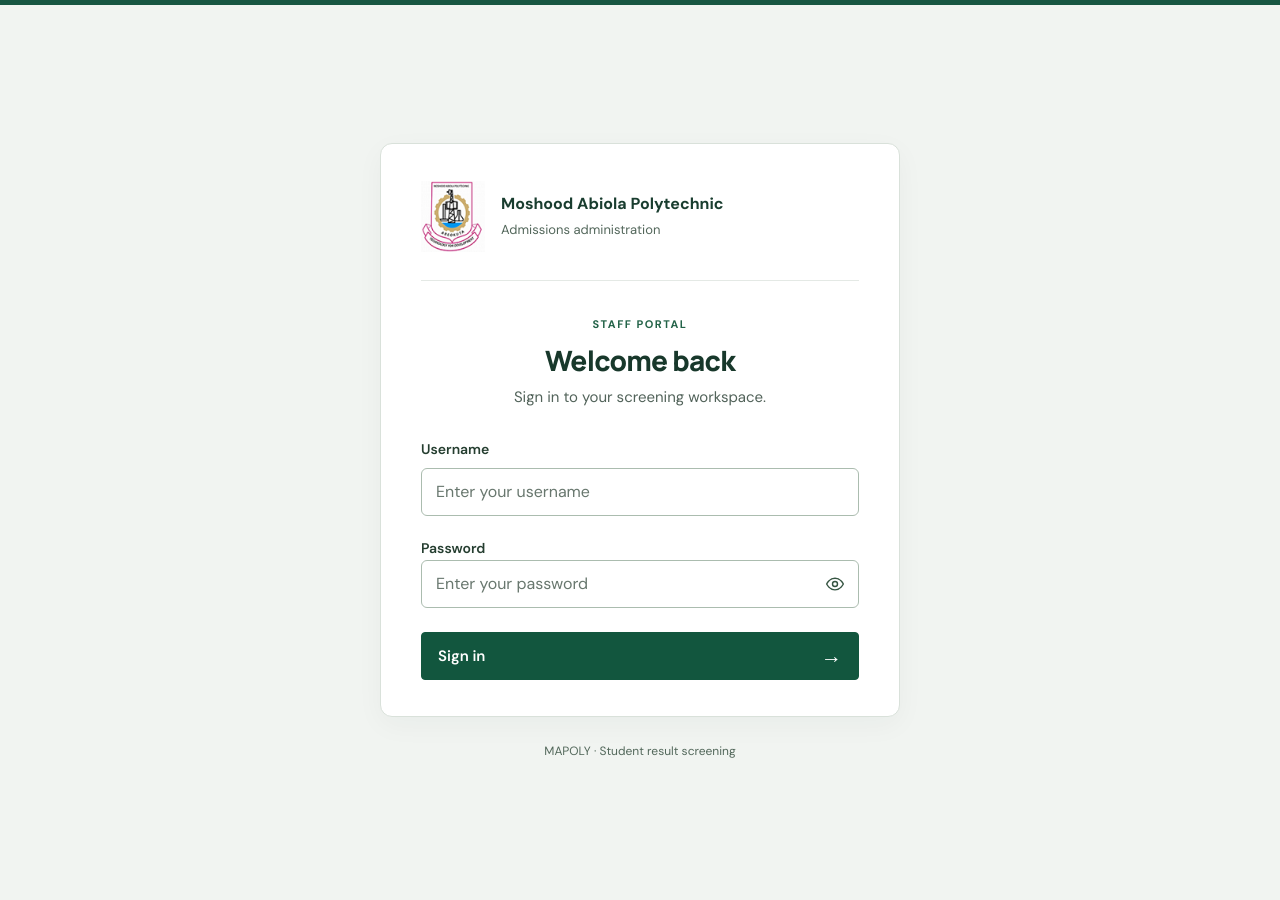
Test: shows and hides the password without submitting or changing it
Type "example-password" into the password field labelled "Password" at (640, 584), box [421, 560, 859, 608]
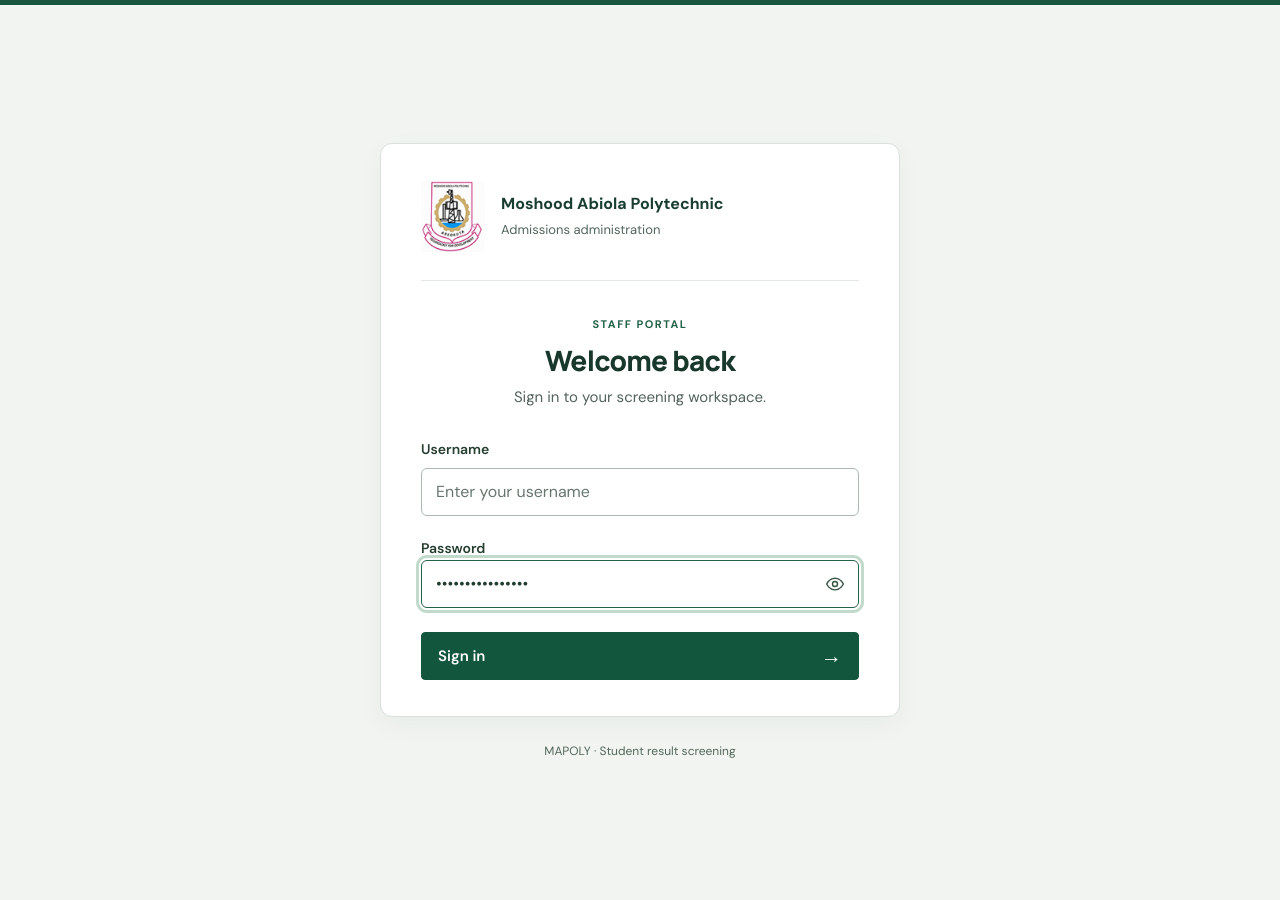
Click the button named "Show password" at (835, 584), box [813, 562, 857, 606]
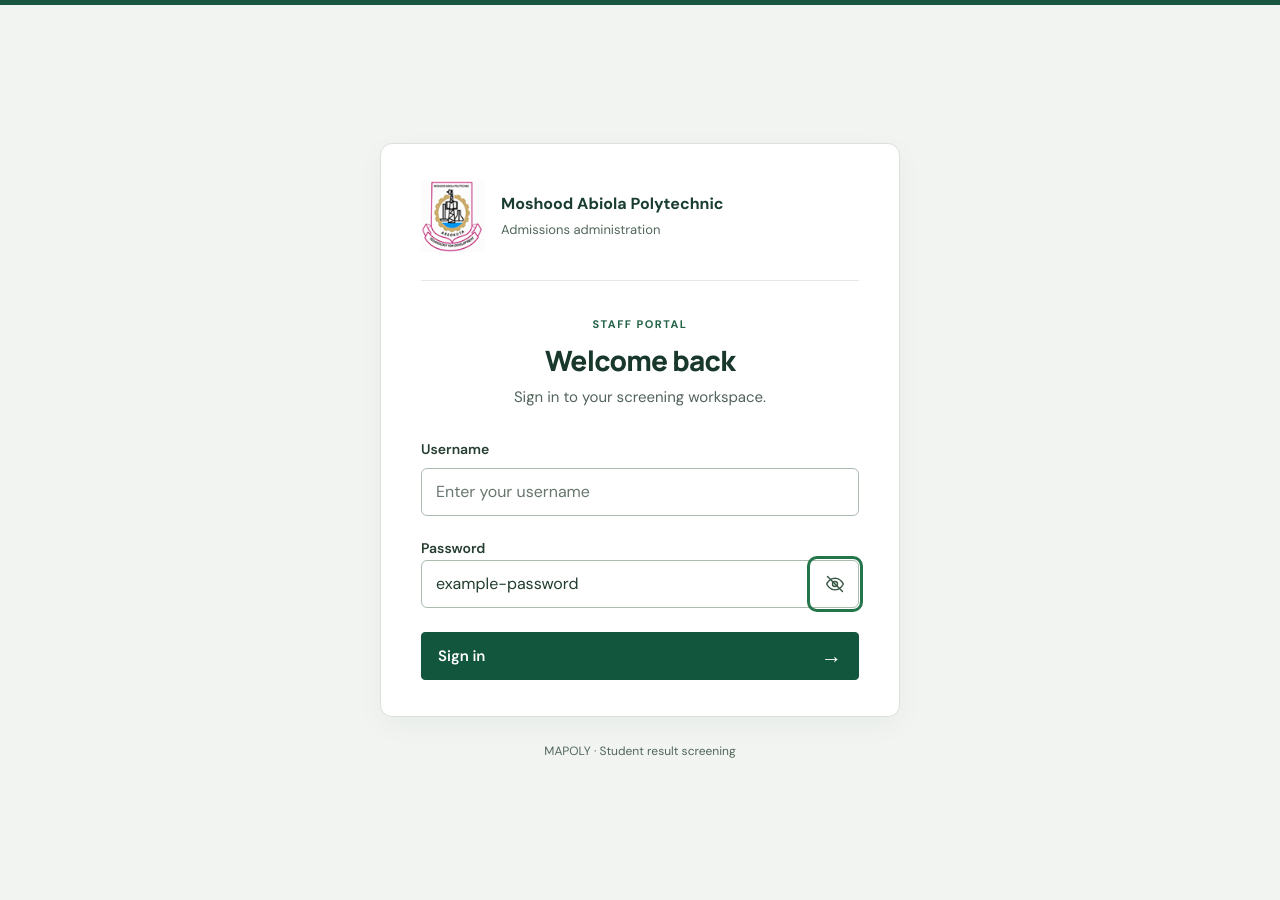
Check: the field labelled "Password" shows its text, box [421, 560, 859, 608]
Click the button named "Hide password" at (835, 584), box [813, 562, 857, 606]
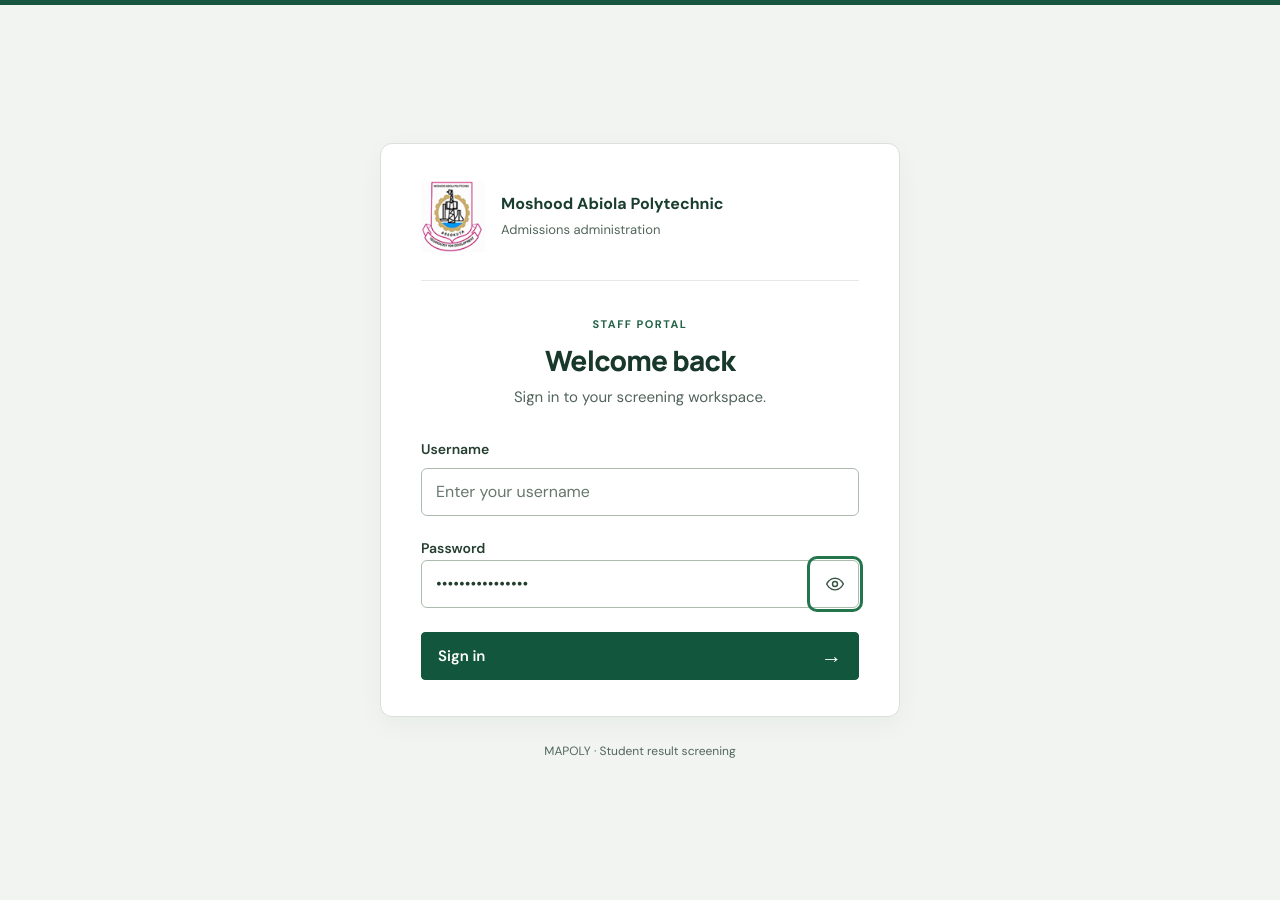
Check: the password field labelled "Password" hides its text, box [421, 560, 859, 608]
